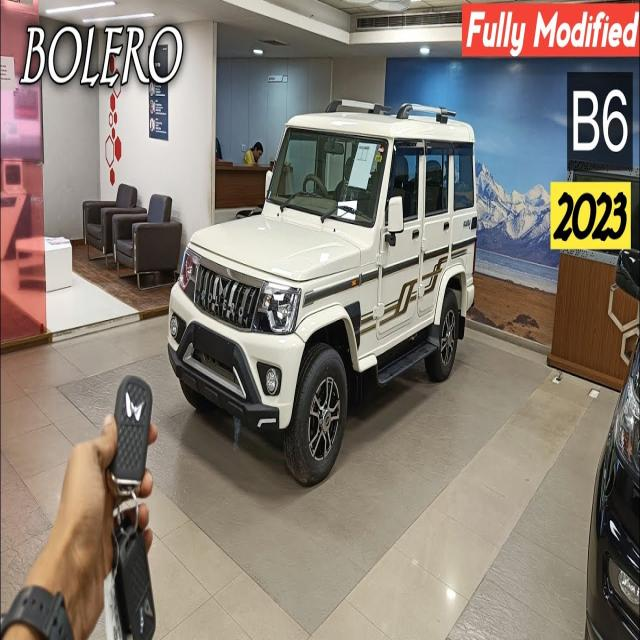light_vehicle: (159, 102, 475, 481), (590, 238, 640, 640)
